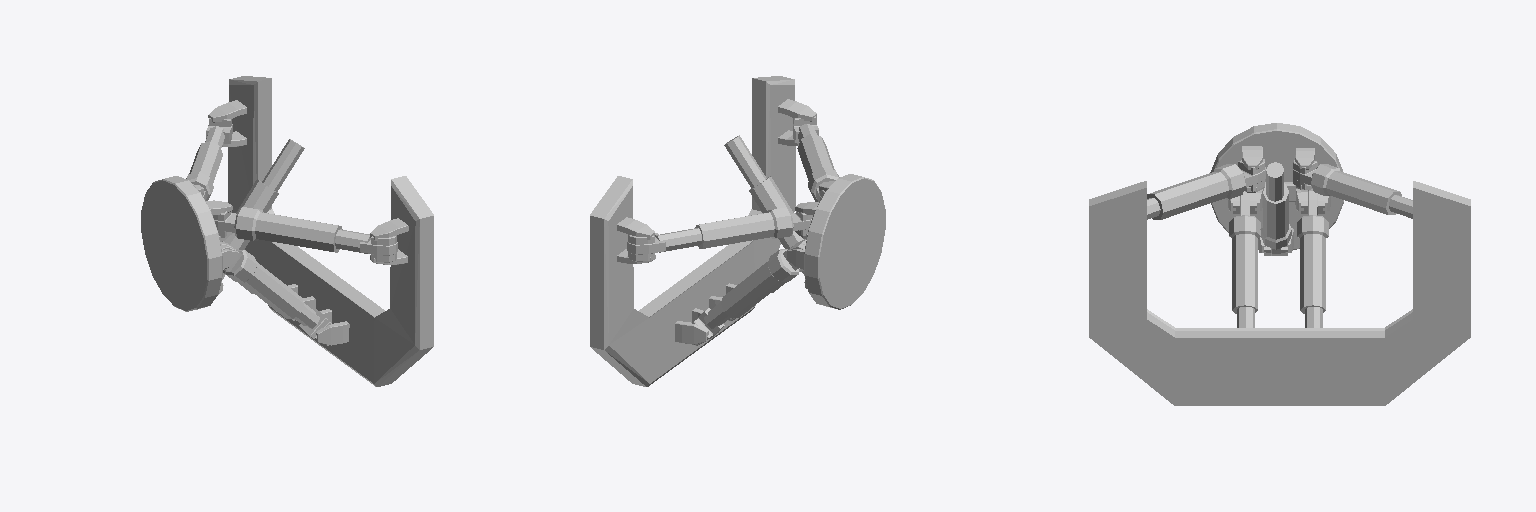
Rendered from l-sholder.obj.
3 views of the same model, side by side, from view 1: azimuth 30°, elevation 25°; view 2: azimuth 150°, elevation 25°; view 3: azimuth 270°, elevation 25° (orthographic).
Parts seen in each view (by area): view 1: l-sholder.obj; view 2: l-sholder.obj; view 3: l-sholder.obj.
Boxes of the visible parts, box(x1,y1,x2,y2) form: l-sholder.obj: box(141, 76, 433, 386); l-sholder.obj: box(590, 76, 885, 386); l-sholder.obj: box(1089, 123, 1470, 405).
Bounding box in the file's own units: 0.1698 × 0.2143 × 0.3372.